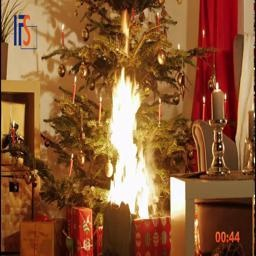fire: (99, 59, 177, 217)
